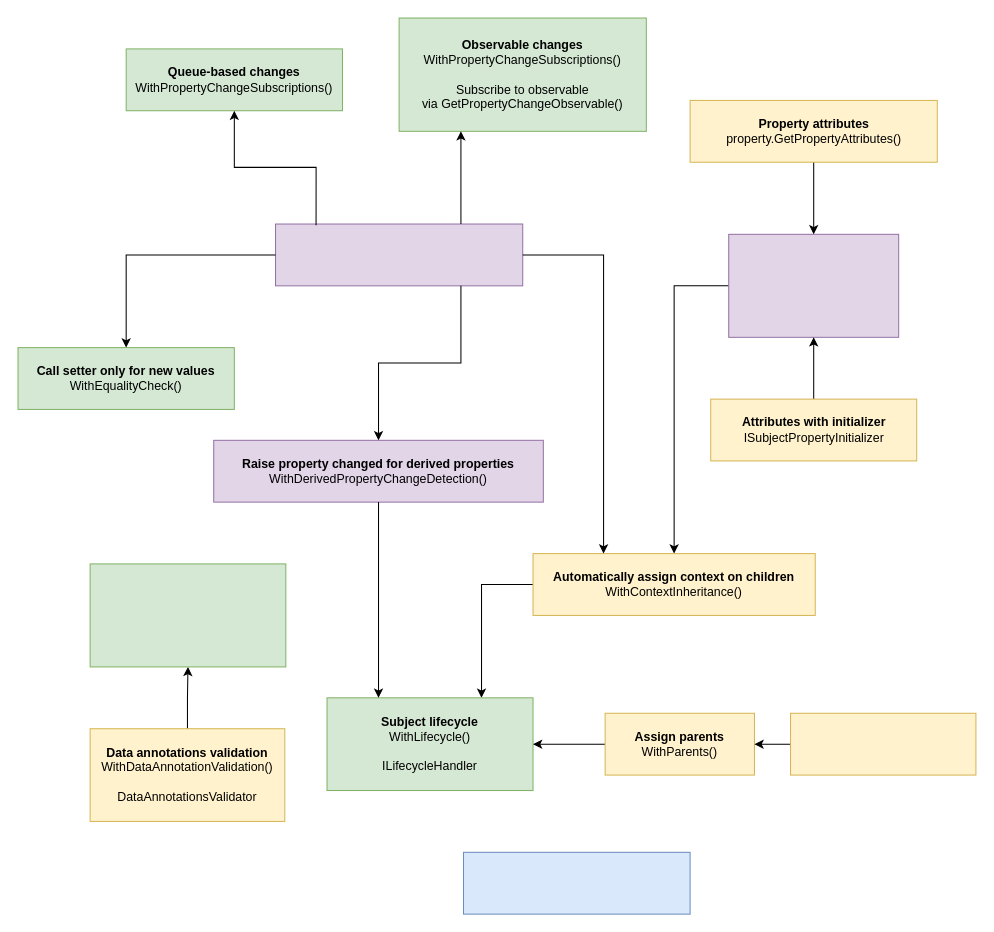
The diagram is 994 pixels wide and 932 high, and some of its shapes have lost their labels. The centre of each missing label's shape, as x and y in pixels:
Full property tracking (composite) WithFullPropertyTracking(): the point at 398,254
JSON utilities property.GetJsonPath(): the point at 882,743
Property write validation WithPropertyValidation() IPropertyValidator: the point at 187,615
Record property getter accesses WithReadPropertyRecorder(): the point at 576,882
Registry (subject "reflection") WithRegistry() ISubjectRegistry: the point at 813,285
